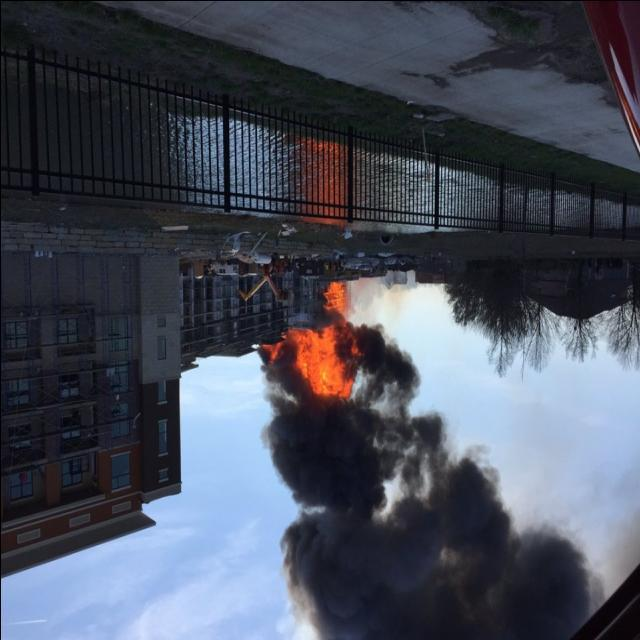Fire: (254, 284, 374, 411)
